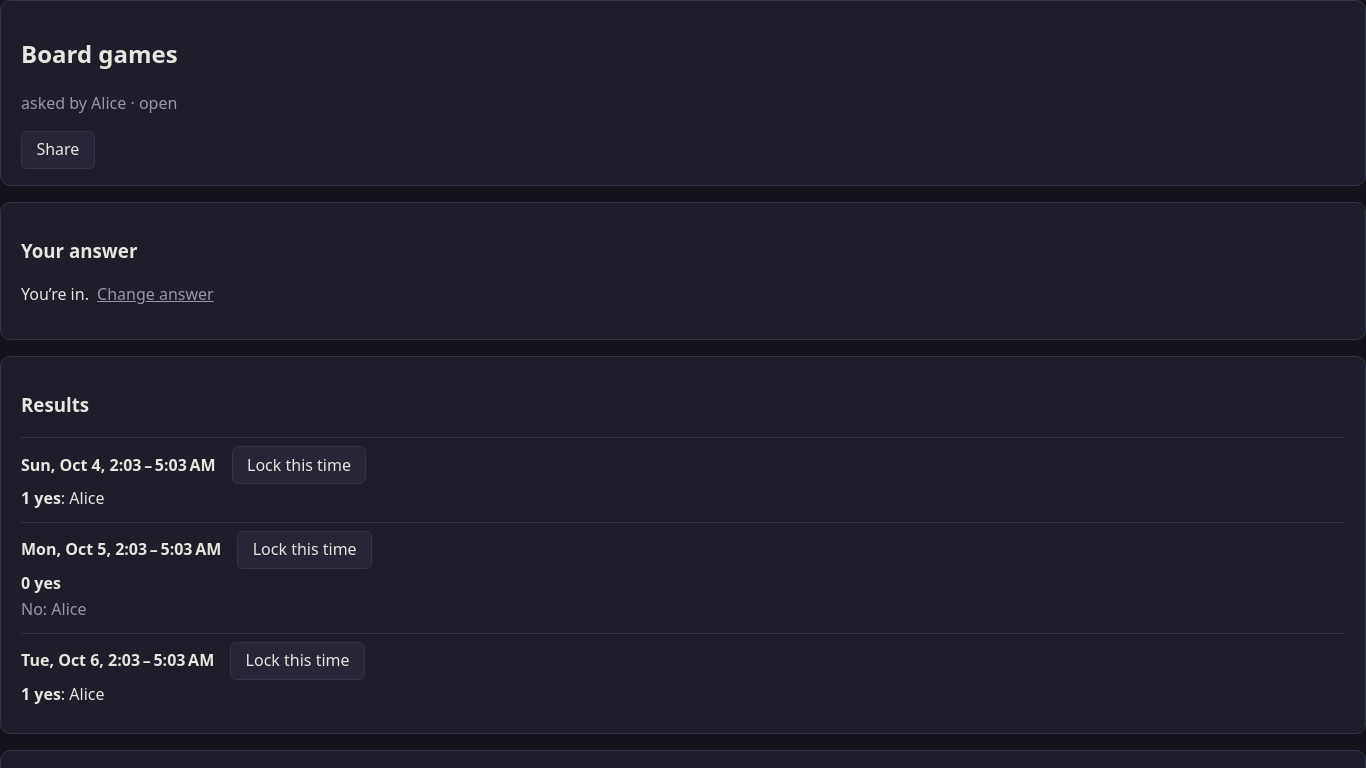
PollPage › organizer controls › locks the chosen time after a confirm dialog
Click the button "Lock this time" next to "Mon, Oct 5, 2:03 – 5:03 AM": (305, 550) [237,531,372,569]
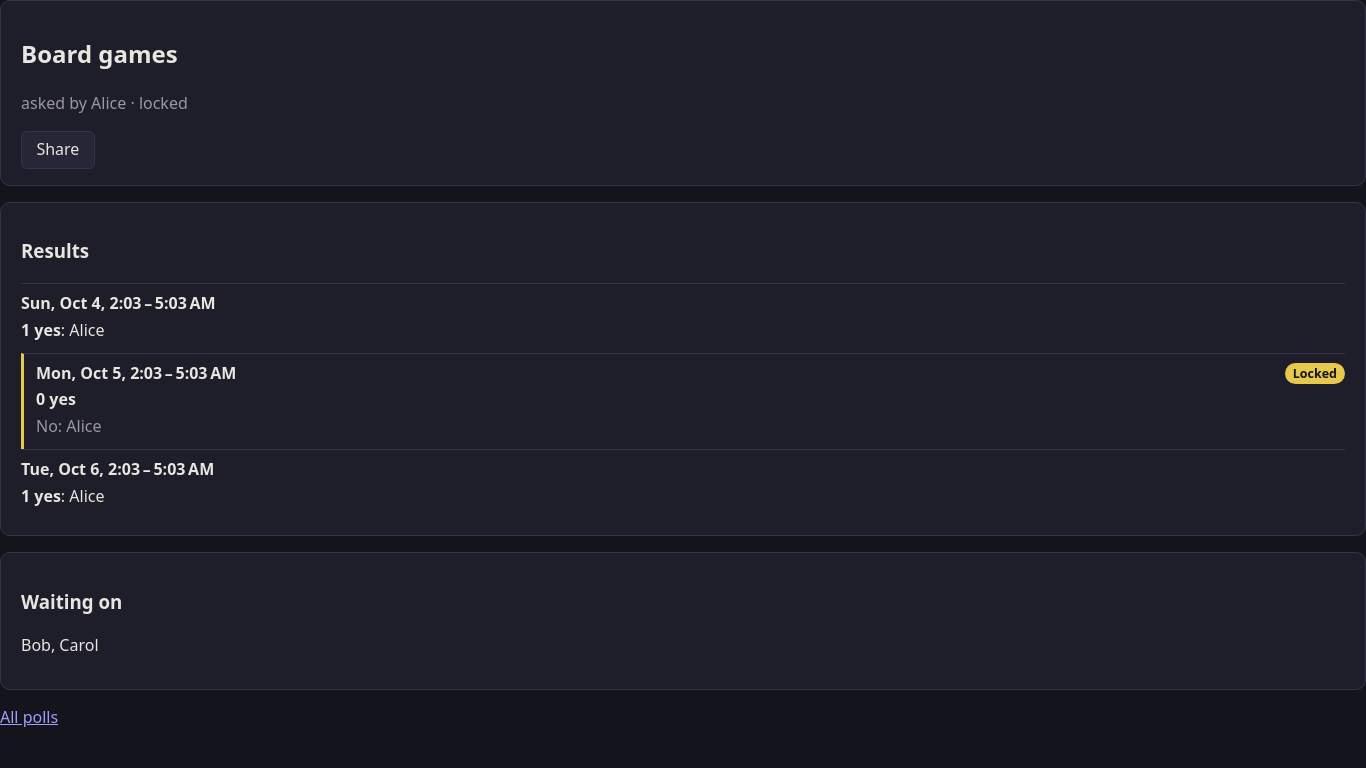
Check: the text "Locked" is shown once, box [1285,363,1345,384]
